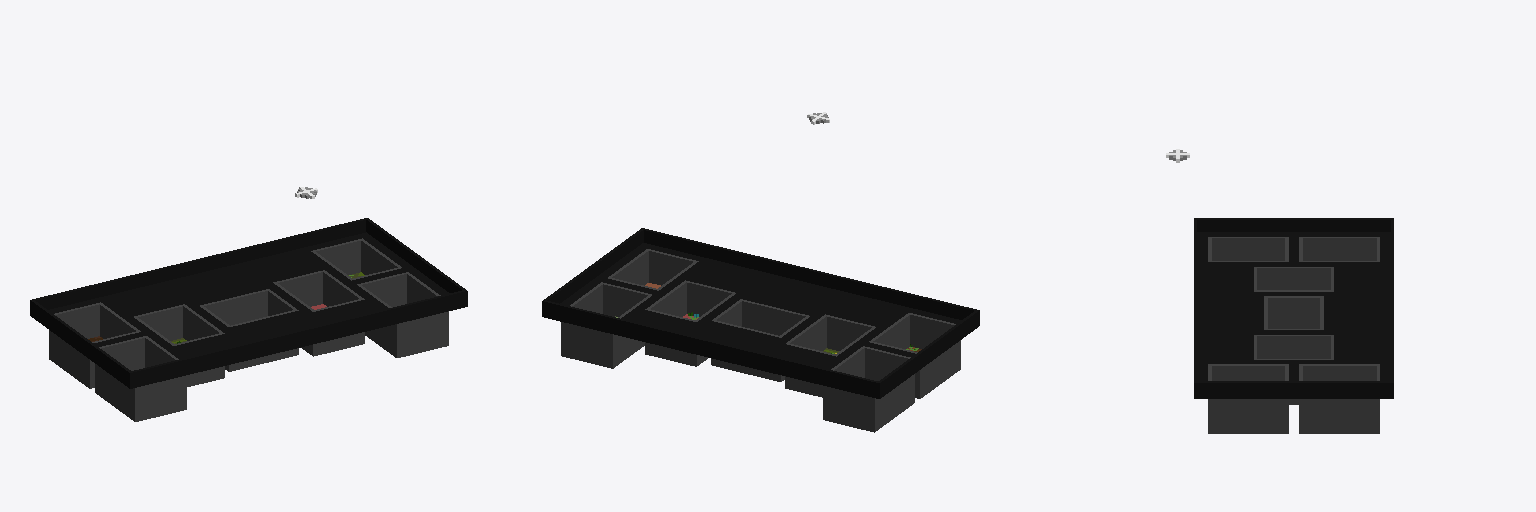
3 views of the same model, side by side, from view 1: azimuth 30°, elevation 25°; view 2: azimuth 150°, elevation 25°; view 3: azimuth 270°, elevation 25° (orthographic).
Bounding box in the file's own units: 111 × 64 × 65.
Materials: 45 (10 with a texture image).